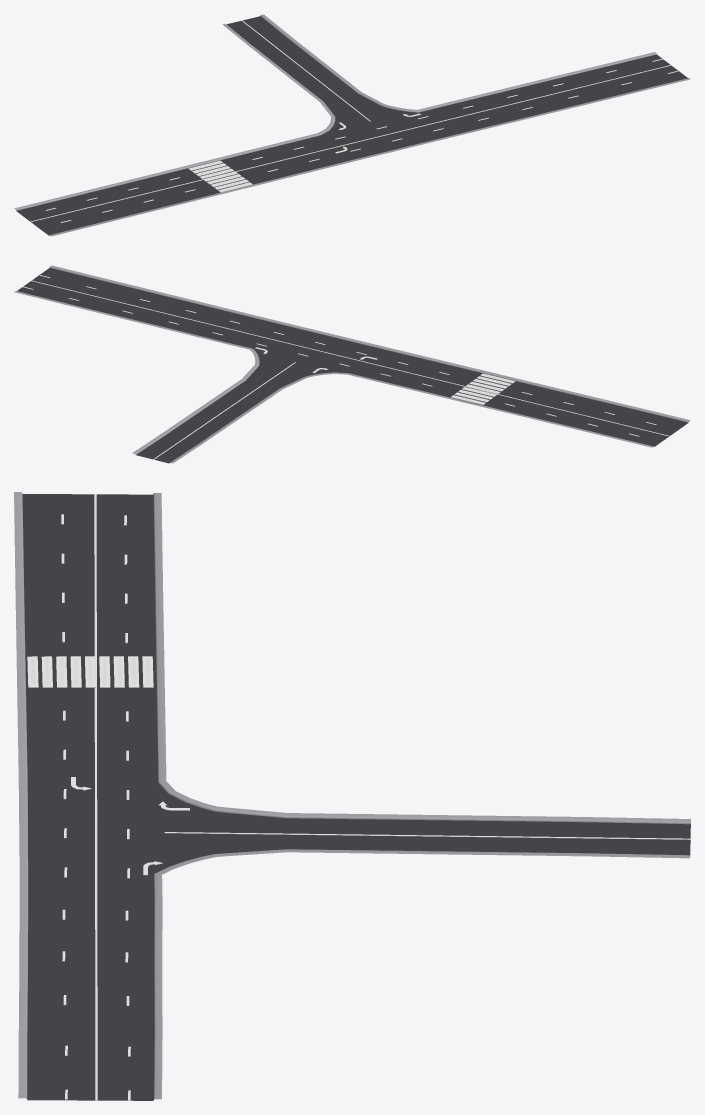
The model's file is Road.fbx.
3 views of the same model, one above another, from view 1: azimuth 30°, elevation 25°; view 2: azimuth 150°, elevation 25°; view 3: azimuth 270°, elevation 25° (orthographic). The views are drawn at different scales.
Parts seen in each view (by area): view 1: MainRoad; view 2: MainRoad; view 3: MainRoad.
Part boxes in pixels (left/top/right/bottom): MainRoad: left=14, top=14, right=690, bottom=236; MainRoad: left=14, top=265, right=690, bottom=463; MainRoad: left=14, top=492, right=690, bottom=1100.
Bounding box in the file's own units: 7713 × 10.52 × 3635.
